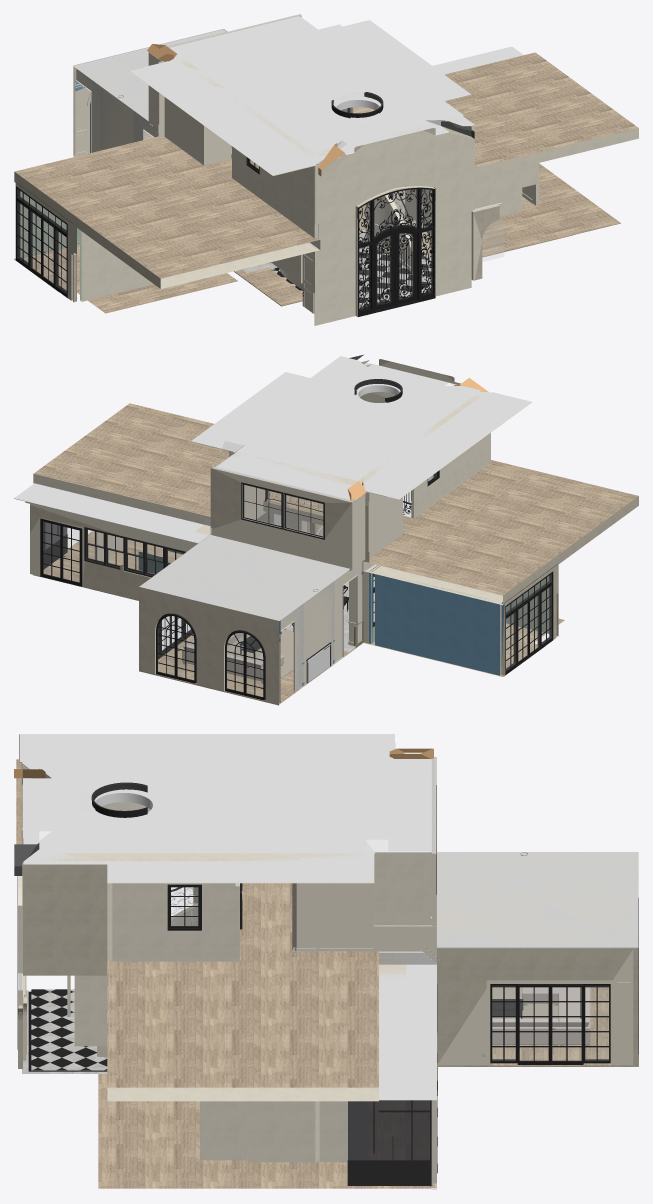
Rendered from family-room-e2c019fb950d.glb.
3 views of the same model, one above another, from view 1: azimuth 30°, elevation 25°; view 2: azimuth 150°, elevation 25°; view 3: azimuth 270°, elevation 25° (orthographic). The views are drawn at different scales.
Parts seen in each view (by area): view 1: family-room-look-2575515a05775d9e, family-room-look-e8793759323e04f0, family-room-look-9d91b47435c6fb33, family-room-look-34525a54e63b733b, family-room-look-3b0077416469e01b, family-room-look-d5a4a1b5d3594c04, family-room-look-5f56640b372ec5ce, family-room-look-746250f96522f643, family-room-4a969f5cc1ae3dfe, family-room-look-bce662e26d5a5947, family-room-look-d999b7e09afcf2f4, family-room-9d80b152e3f2ea10 (+30 smaller); view 2: family-room-look-2575515a05775d9e, family-room-look-e8793759323e04f0, family-room-look-9d91b47435c6fb33, family-room-4a969f5cc1ae3dfe, family-room-look-b19b106fc304963c, family-room-look-245f595ae2832e16, family-room-969b861f9850351e, family-room-look-bfb9fa537cd11d1d, family-room-9d80b152e3f2ea10, family-room-look-9a0e9ee9b2a451d7, family-room-look-5f56640b372ec5ce, family-room-50d54560d247b537 (+27 smaller); view 3: family-room-look-2575515a05775d9e, family-room-look-e8793759323e04f0, family-room-look-9d91b47435c6fb33, family-room-4a969f5cc1ae3dfe, family-room-look-3b0077416469e01b, family-room-e706aa16b4547c37, family-room-look-62353aa10fc57f23, family-room-50d54560d247b537, family-room-look-c51ecd664a3b22a3, family-room-look-9a0e9ee9b2a451d7, family-room-look-5f56640b372ec5ce, family-room-look-69af8f587252f9fa (+26 smaller).
Boxes of the visible parts, x1,y1,x2,y2 form: family-room-look-2575515a05775d9e: (14, 52, 638, 288); family-room-look-e8793759323e04f0: (180, 23, 463, 158); family-room-look-9d91b47435c6fb33: (130, 16, 474, 175); family-room-look-34525a54e63b733b: (314, 126, 471, 244); family-room-look-3b0077416469e01b: (14, 163, 620, 306); family-room-look-d5a4a1b5d3594c04: (314, 208, 471, 325); family-room-look-5f56640b372ec5ce: (254, 81, 404, 139); family-room-look-746250f96522f643: (232, 146, 317, 238); family-room-4a969f5cc1ae3dfe: (73, 29, 226, 120); family-room-look-bce662e26d5a5947: (357, 187, 435, 316); family-room-look-d999b7e09afcf2f4: (80, 230, 153, 301); family-room-9d80b152e3f2ea10: (76, 69, 158, 152); family-room-look-2575515a05775d9e: (33, 403, 638, 604); family-room-look-e8793759323e04f0: (222, 356, 481, 485); family-room-look-9d91b47435c6fb33: (191, 362, 532, 500); family-room-4a969f5cc1ae3dfe: (139, 534, 349, 621); family-room-look-b19b106fc304963c: (375, 573, 501, 675); family-room-look-245f595ae2832e16: (210, 467, 352, 568); family-room-969b861f9850351e: (139, 587, 280, 704); family-room-look-bfb9fa537cd11d1d: (30, 502, 197, 600); family-room-9d80b152e3f2ea10: (280, 562, 362, 691); family-room-look-9a0e9ee9b2a451d7: (14, 483, 208, 543); family-room-look-5f56640b372ec5ce: (325, 377, 464, 430); family-room-50d54560d247b537: (139, 534, 348, 620); family-room-look-2575515a05775d9e: (16, 759, 378, 1101); family-room-look-e8793759323e04f0: (39, 756, 388, 861); family-room-look-9d91b47435c6fb33: (19, 734, 431, 883); family-room-4a969f5cc1ae3dfe: (436, 852, 638, 948); family-room-look-3b0077416469e01b: (98, 920, 436, 1188); family-room-e706aa16b4547c37: (437, 948, 633, 1065); family-room-look-62353aa10fc57f23: (23, 865, 112, 975); family-room-50d54560d247b537: (436, 852, 638, 948); family-room-look-c51ecd664a3b22a3: (112, 883, 239, 961); family-room-look-9a0e9ee9b2a451d7: (379, 964, 436, 1100); family-room-look-5f56640b372ec5ce: (83, 756, 196, 825); family-room-look-69af8f587252f9fa: (292, 883, 373, 947).
Bounding box in the file's own units: 21.02 × 7.01 × 16.88.
62 materials, 12 textured.
